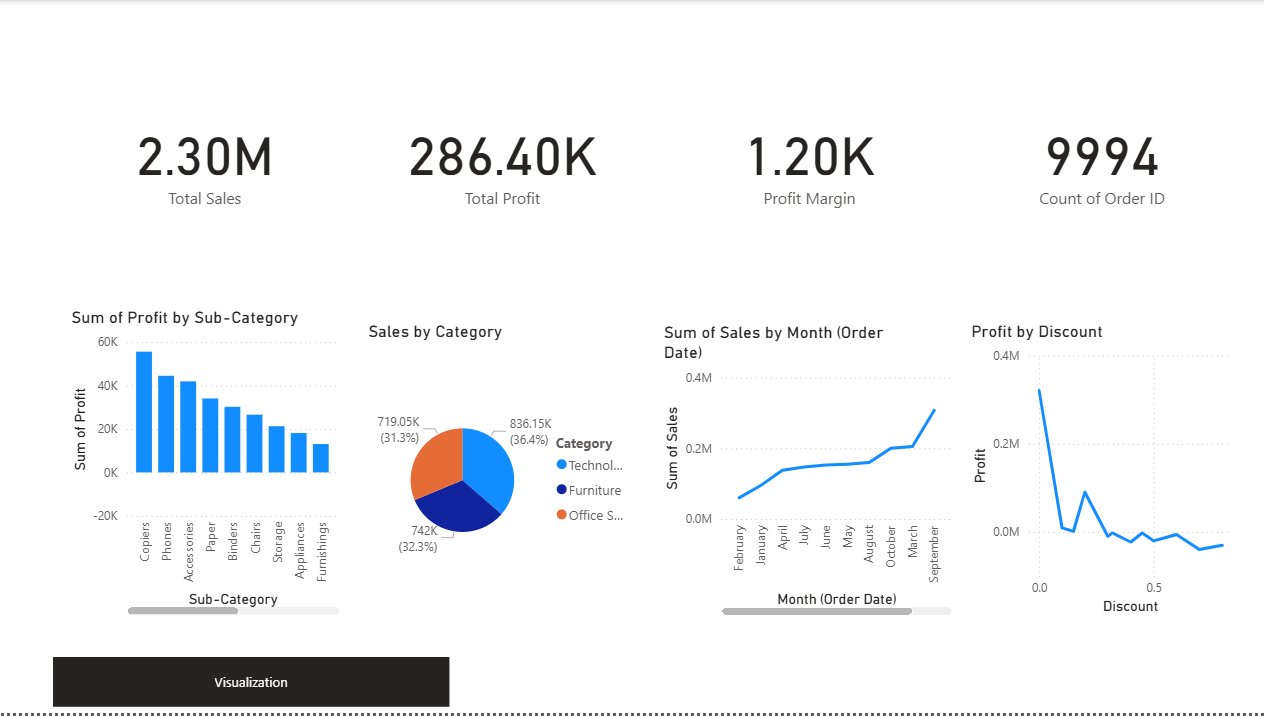

The dashboard page shown, as its layout file describes it:
{"tool":"powerbi","page":{"name":"Visualization ","canvas":[1280,720],"ordinal":0},"visuals":[{"type":"card","fields":{"Values":["Sum(Sheet1.Sales)"]},"box":[68.1,10.6,278.6,299.8],"z":0},{"type":"card","fields":{"Values":["Sum(Sheet1.Profit Margin)"]},"box":[667.1,10,300,300],"z":1000},{"type":"card","fields":{"Values":["Sum(Sheet1.Profit)"]},"box":[368.6,10,280,300],"z":2000},{"type":"card","fields":{"Values":["CountNonNull(Sheet1.Order ID)"]},"box":[977.1,10,272.9,300],"z":3000},{"type":"clusteredColumnChart","fields":{"Category":["Sheet1.Sub-Category"],"Y":["Sum(Sheet1.Profit)"]},"box":[68.1,310.4,280.1,315],"z":4000},{"type":"pieChart","fields":{"Category":["Sheet1.Category"],"Y":["Sum(Sheet1.Sales)"]},"box":[368.6,324.3,280,300],"z":5000},{"type":"lineChart","fields":{"Category":["Sheet1.Month (Order Date)"],"Y":["Sum(Sheet1.Sales)"]},"box":[666.7,325,300,300],"z":6000},{"type":"lineChart","fields":{"Category":["Sheet1.Discount"],"Y":["Sum(Sheet1.Profit)"]},"box":[977.1,324.3,272.9,300],"z":7000},{"type":"pageNavigator","box":[55,663.3,400,50],"z":8000}]}

Visuals, with their boxes in screenshot pixels (x1, y1, x2, y2), scaled from the page's 1280x720 canvas onto the 1264x717 screenshot:
card - Sum(Sheet1.Sales): (left=67, top=11, right=342, bottom=309)
card - Sum(Sheet1.Profit Margin): (left=659, top=10, right=955, bottom=309)
card - Sum(Sheet1.Profit): (left=364, top=10, right=640, bottom=309)
card - CountNonNull(Sheet1.Order ID): (left=965, top=10, right=1234, bottom=309)
clusteredColumnChart - Sheet1.Sub-Category x Sum(Sheet1.Profit): (left=67, top=309, right=344, bottom=623)
pieChart - Sheet1.Category x Sum(Sheet1.Sales): (left=364, top=323, right=640, bottom=622)
lineChart - Sheet1.Month (Order Date) x Sum(Sheet1.Sales): (left=658, top=324, right=955, bottom=622)
lineChart - Sheet1.Discount x Sum(Sheet1.Profit): (left=965, top=323, right=1234, bottom=622)
pageNavigator: (left=54, top=661, right=449, bottom=710)
